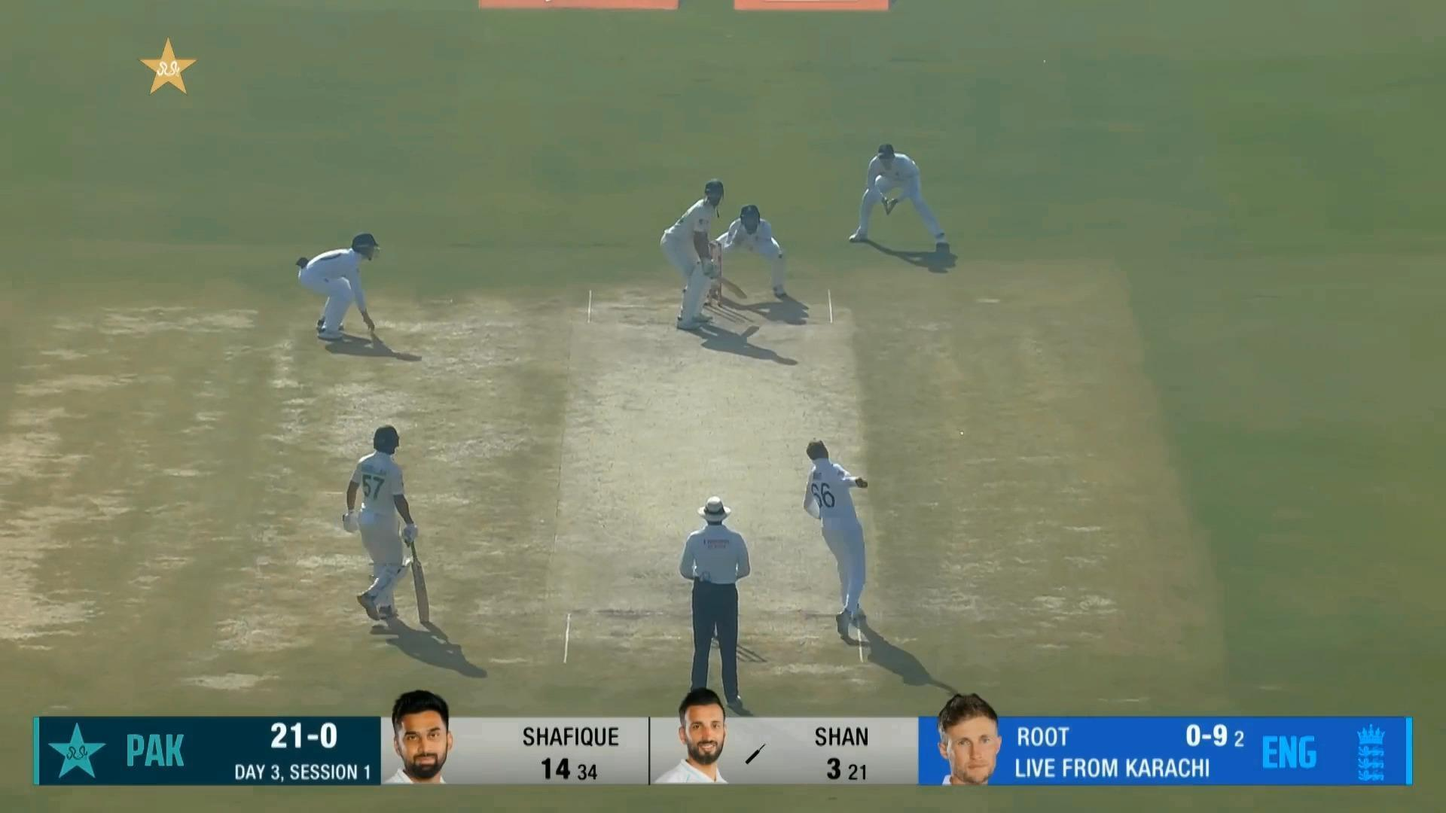BM 1: (659, 178, 749, 330)
BO: (801, 436, 870, 641)
